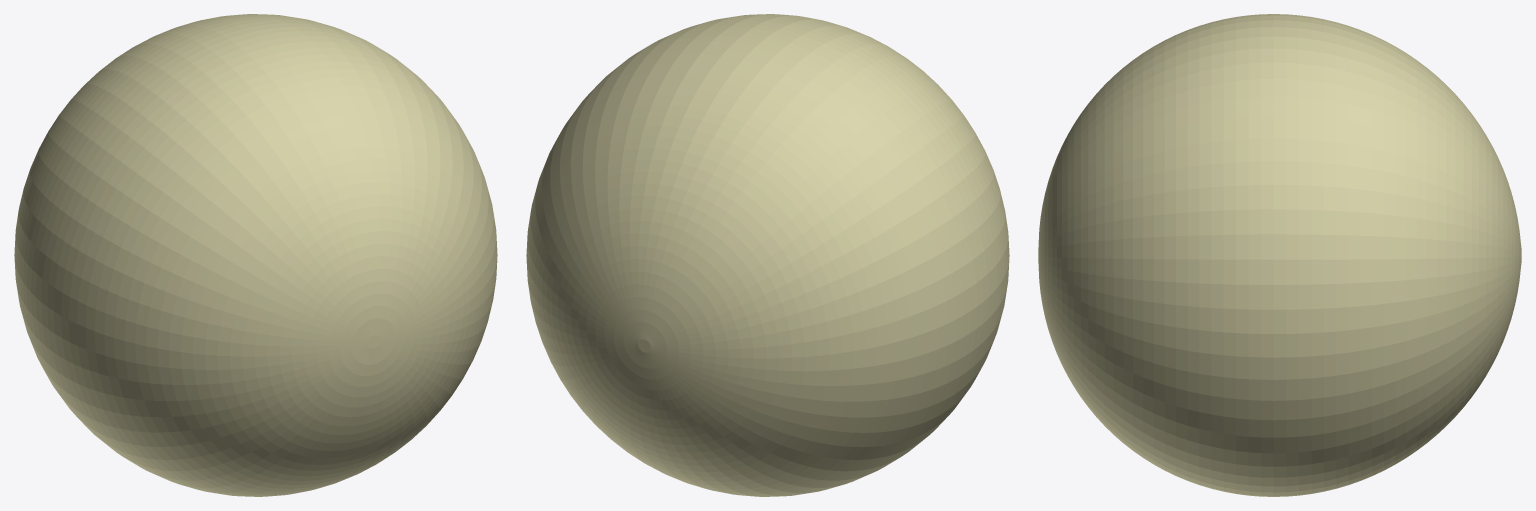
Rendered from extrude_chaining.glb.
The picture shows the model from 3 angles, left to right: view 1: azimuth 30°, elevation 25°; view 2: azimuth 150°, elevation 25°; view 3: azimuth 270°, elevation 25°; orthographic projection.
Visible parts, largest first — view 1: world; view 2: world; view 3: world.
Boxes of the visible parts, x1,y1,x2,y2 form: world: (14, 14, 497, 496); world: (526, 14, 1009, 496); world: (1038, 14, 1521, 496).
Size of the model in its own units: 20 by 20 by 20.
